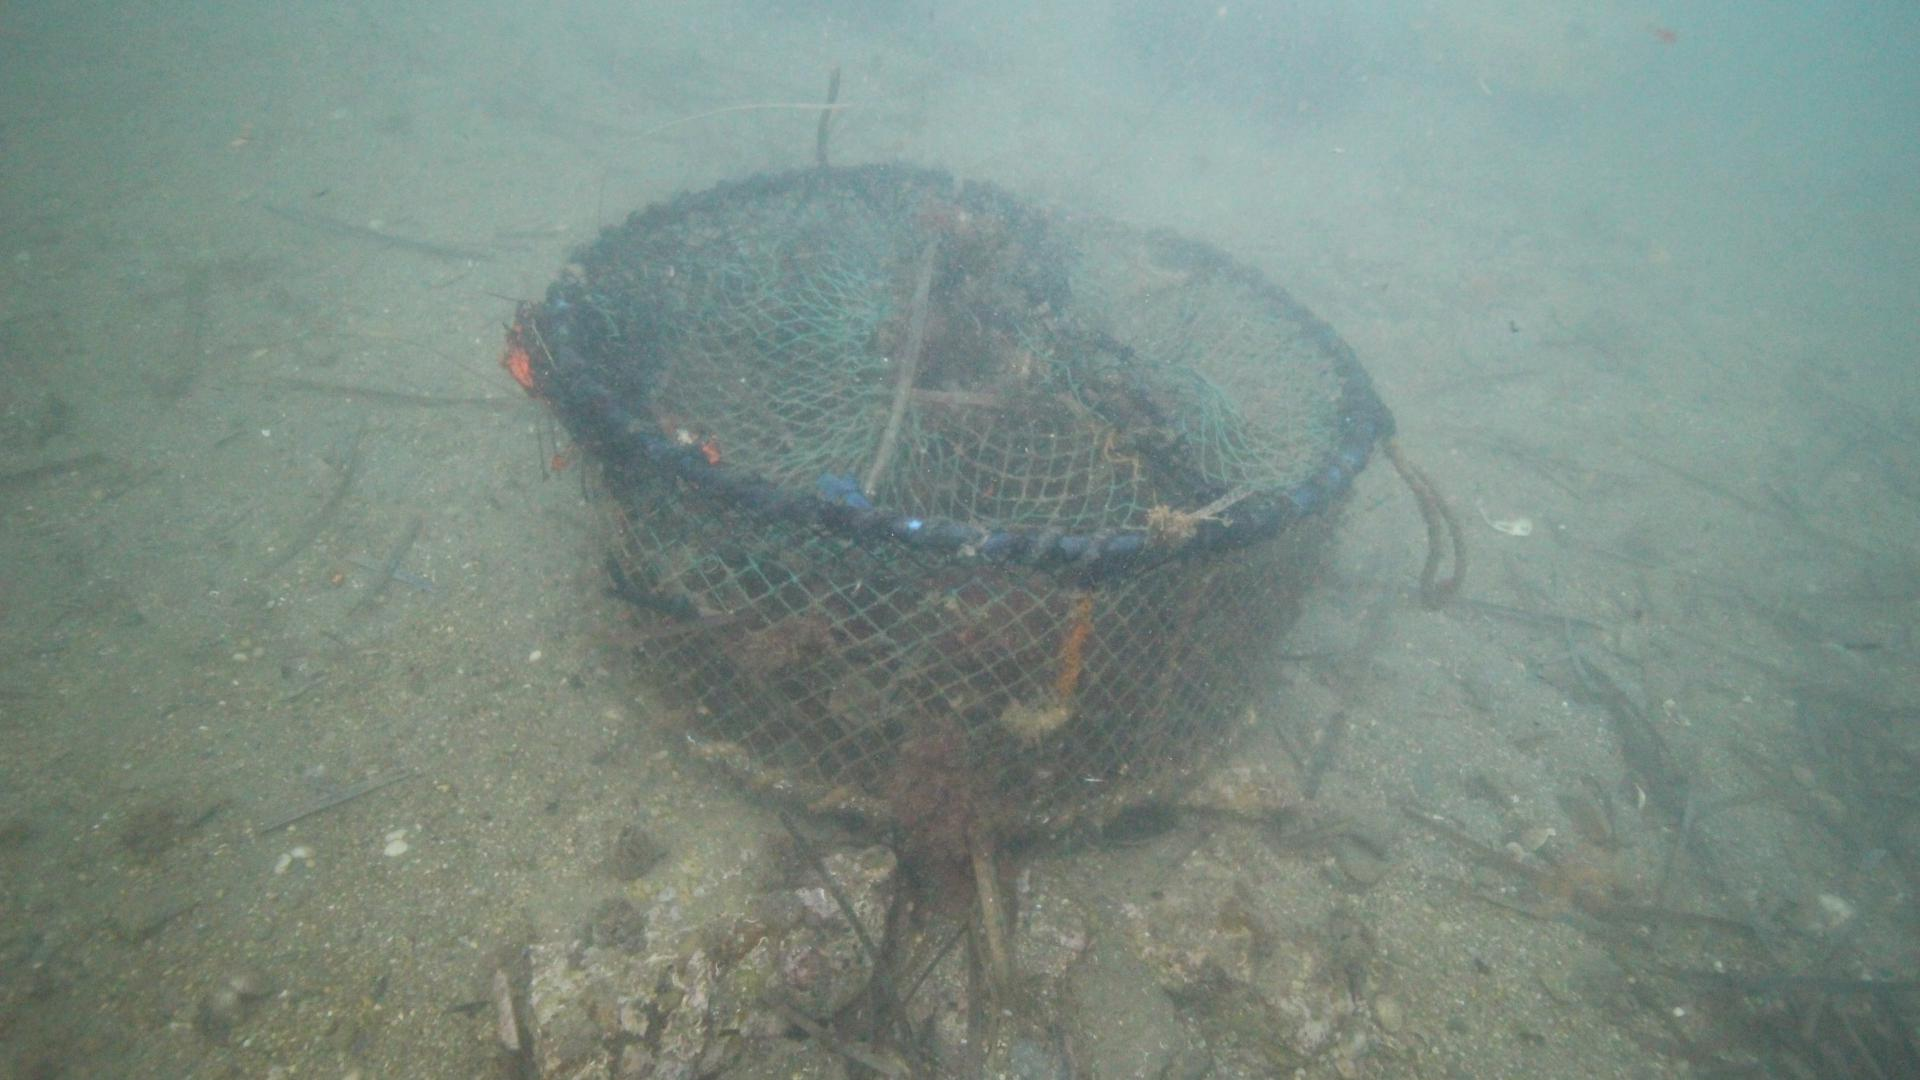circular fish trap: (533, 162, 1379, 837)
rope: (1382, 433, 1468, 611)
